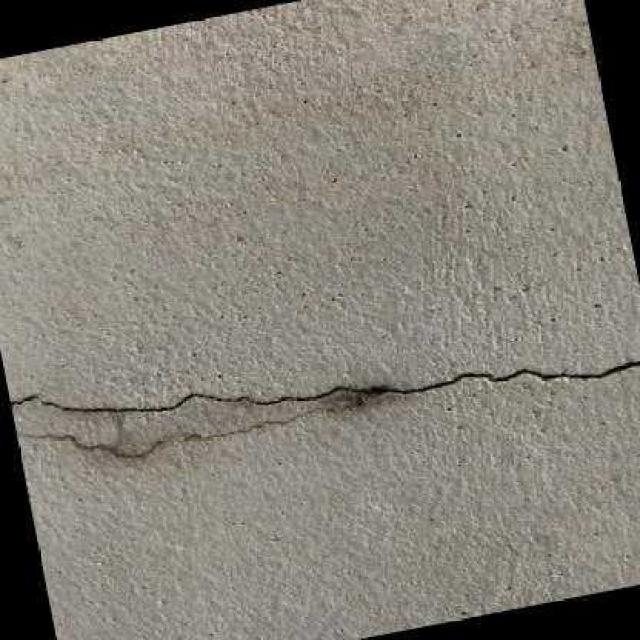D00: (11, 357, 640, 410)
